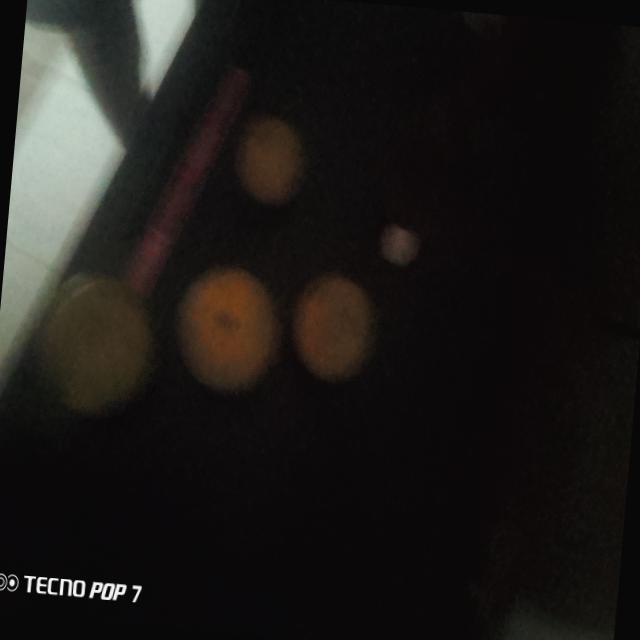Ripe orange: (34, 272, 153, 411), (179, 263, 279, 406), (284, 271, 375, 385), (230, 110, 300, 194)
